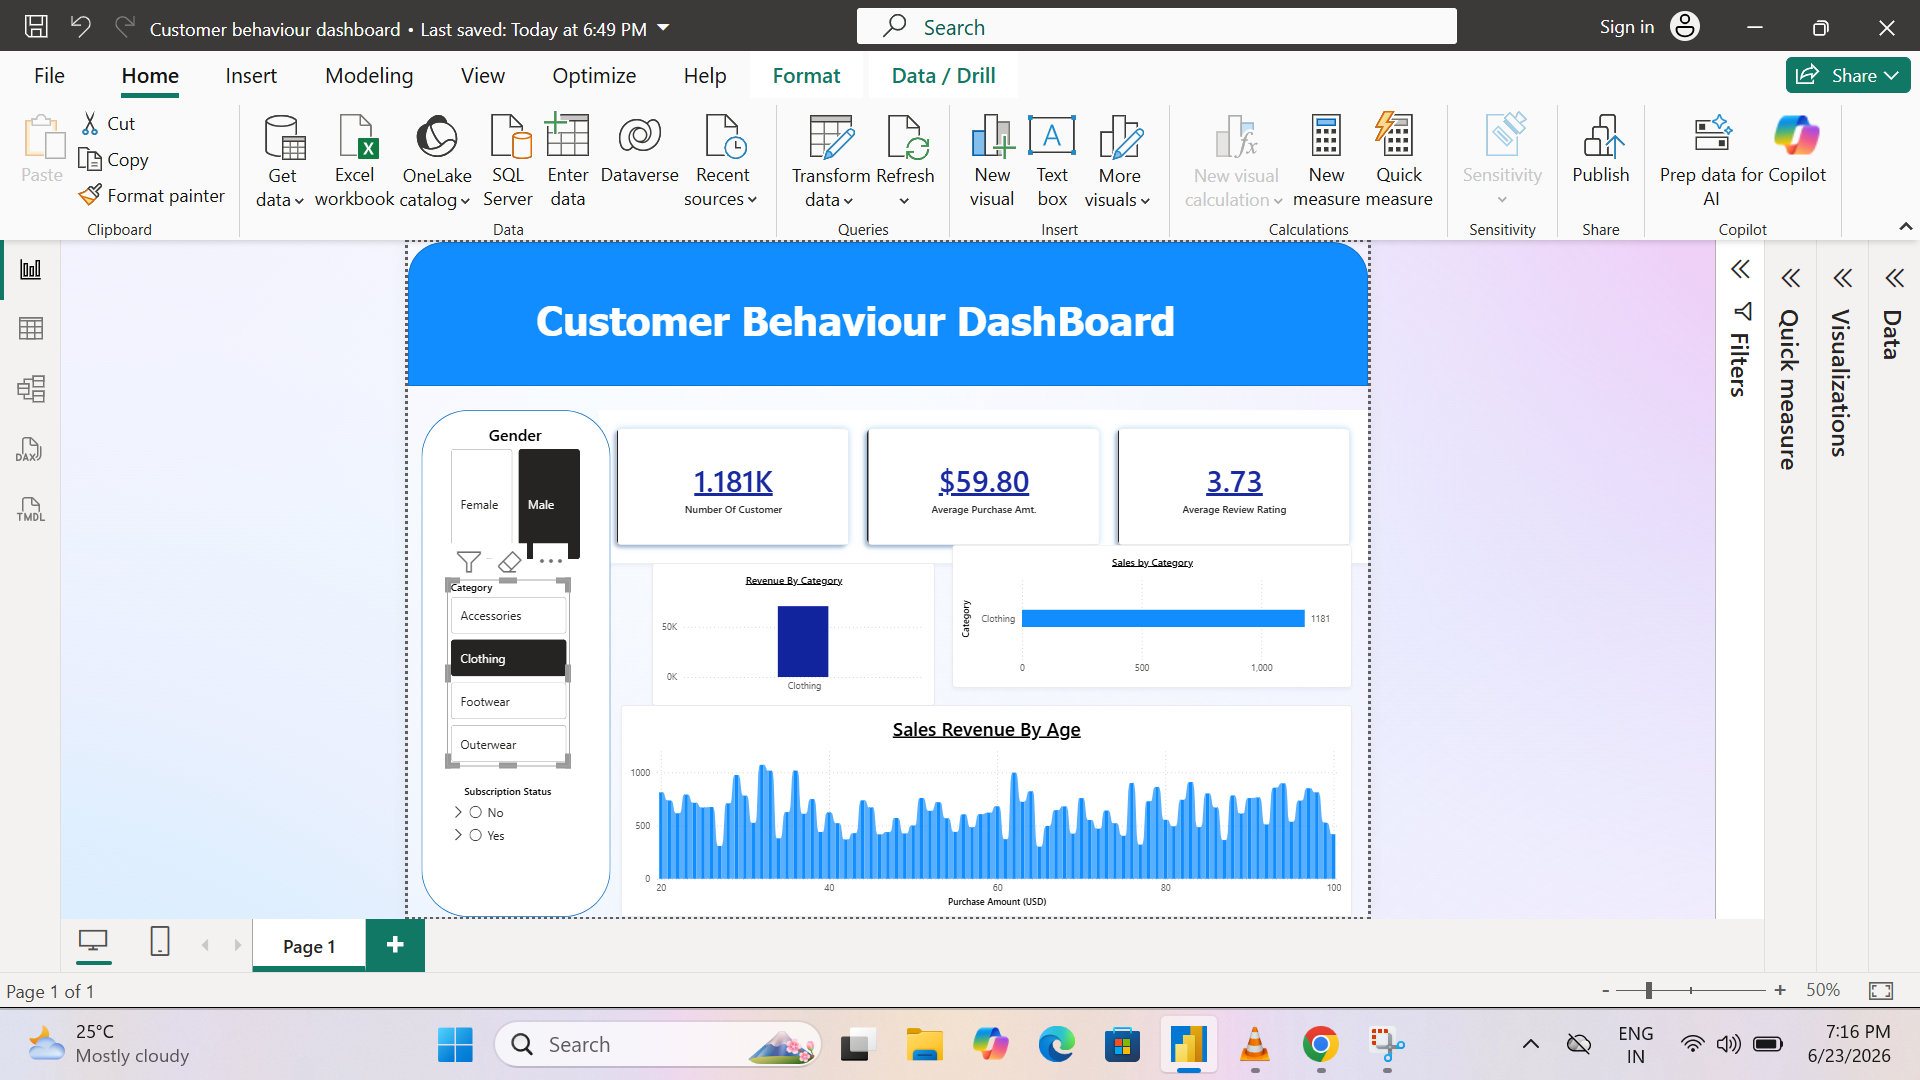

What the dashboard file says about the page in this screenshot:
{"tool":"powerbi","page":{"name":"Page 1","canvas":[1280,900],"ordinal":0},"visuals":[{"type":"cardVisual","fields":{"Data":["customer_shopping_behavior.No Of Customer","customer_shopping_behavior.Average Purchase Amt.","customer_shopping_behavior.Average Review Rating"]},"box":[254,224,1026,204],"z":0},{"type":"shape","box":[0,0,1280,192],"z":1000},{"type":"textbox","box":[166,66,1016,92],"z":2000},{"type":"clusteredColumnChart","title":"Revenue By Category","fields":{"Category":["customer_shopping_behavior.Category"],"Y":["Sum(customer_shopping_behavior.Purchase Amount (USD))"]},"box":[326,428,376,190],"z":3000},{"type":"clusteredBarChart","title":"Sales by Category","fields":{"Category":["customer_shopping_behavior.Category"],"Y":["CountNonNull(customer_shopping_behavior.Customer ID)"]},"box":[726,404,532,190],"z":4000},{"type":"shape","box":[18,224,252,676],"z":5000},{"type":"advancedSlicerVisual","title":"Gender","fields":{"Values":["customer_shopping_behavior.Gender"]},"box":[52,242,182,186],"z":6000},{"type":"listSlicer","fields":{"Values":["customer_shopping_behavior.Subscription Status","customer_shopping_behavior.Category"]},"box":[52,722,162,128],"z":7000},{"type":"advancedSlicerVisual","fields":{"Values":["customer_shopping_behavior.Category"]},"box":[52,450,164,250],"z":8000},{"type":"ribbonChart","title":"Sales Revenue By Age","fields":{"Category":["customer_shopping_behavior.Purchase Amount (USD)"],"Y":["Sum(customer_shopping_behavior.Age)"]},"box":[284,618,974,282],"z":9000}]}

Visuals, with their boxes on the page's 1280x900 design canvas (x1, y1, x2, y2). These are canvas units, not pixel positions in the 1920x1080 screenshot, which may show the page scaled, cropped or inside an application window:
cardVisual - customer_shopping_behavior.No Of Customer x customer_shopping_behavior.Average Purchase Amt.: x1=254, y1=224, x2=1280, y2=428
shape: x1=0, y1=0, x2=1280, y2=192
textbox: x1=166, y1=66, x2=1182, y2=158
"Revenue By Category" clusteredColumnChart: x1=326, y1=428, x2=702, y2=618
"Sales by Category" clusteredBarChart: x1=726, y1=404, x2=1258, y2=594
shape: x1=18, y1=224, x2=270, y2=900
"Gender" advancedSlicerVisual: x1=52, y1=242, x2=234, y2=428
listSlicer - customer_shopping_behavior.Subscription Status x customer_shopping_behavior.Category: x1=52, y1=722, x2=214, y2=850
advancedSlicerVisual - customer_shopping_behavior.Category: x1=52, y1=450, x2=216, y2=700
"Sales Revenue By Age" ribbonChart: x1=284, y1=618, x2=1258, y2=900
